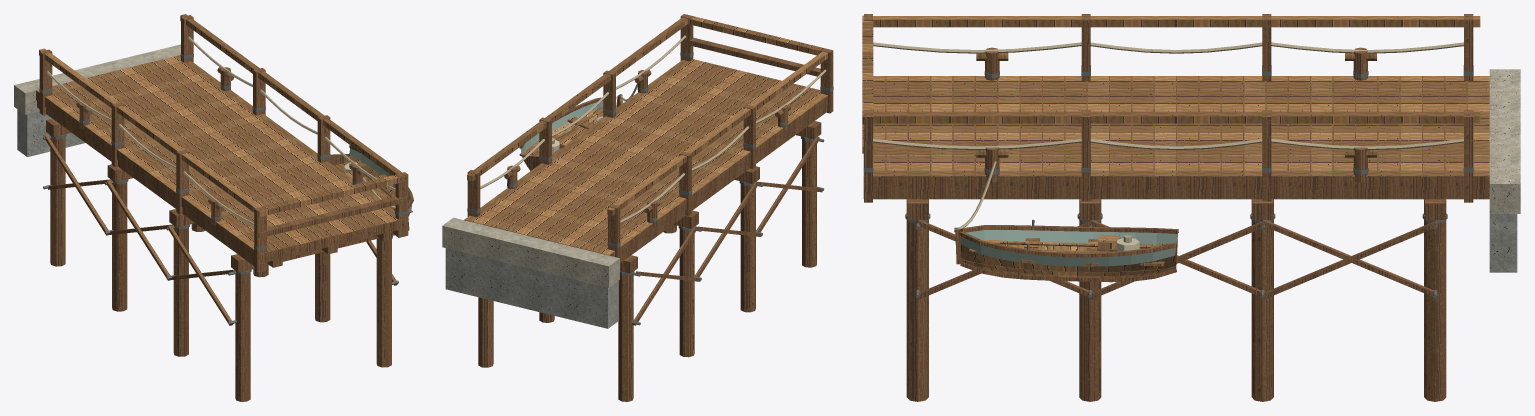
The model's file is holm_arrival_dock_oldschool_v1.glb.
3 renders of one model, left to right at view 1: azimuth 30°, elevation 25°; view 2: azimuth 150°, elevation 25°; view 3: azimuth 270°, elevation 25°, orthographic. The views are drawn at different scales.
Parts seen in each view (by area): view 1: DockDeck, DockRails, DockPiles, DockStructure, DockLanding, DockRopes, DockBoatHull, DockIron, DockBollards; view 2: DockDeck, DockLanding, DockRails, DockPiles, DockStructure, DockBoatHull, DockRopes, DockBollards, DockIron, DockBoatFittings; view 3: DockDeck, DockRails, DockPiles, DockStructure, DockBoatHull, DockLanding, DockRopes, DockBollards, DockBoatFittings, DockIron.
Part boxes in pixels (left/top/right/bottom): DockDeck: left=36, top=55, right=406, bottom=263; DockRails: left=39, top=14, right=408, bottom=272; DockPiles: left=50, top=125, right=391, bottom=401; DockStructure: left=37, top=101, right=405, bottom=325; DockLanding: left=14, top=44, right=180, bottom=156; DockRopes: left=46, top=36, right=395, bottom=225; DockBoatHull: left=330, top=145, right=413, bottom=230; DockIron: left=39, top=54, right=408, bottom=324; DockBollards: left=76, top=67, right=365, bottom=225; DockDeck: left=464, top=59, right=827, bottom=256; DockLanding: left=442, top=217, right=619, bottom=328; DockRails: left=467, top=14, right=833, bottom=266; DockPiles: left=478, top=127, right=816, bottom=401; DockStructure: left=620, top=106, right=826, bottom=325; DockBoatHull: left=519, top=95, right=623, bottom=171; DockRopes: left=480, top=35, right=826, bottom=223; DockBollards: left=504, top=70, right=791, bottom=227; DockIron: left=467, top=52, right=833, bottom=325; DockBoatFittings: left=531, top=83, right=637, bottom=154; DockDeck: left=863, top=76, right=1489, bottom=189; DockRails: left=862, top=14, right=1480, bottom=202; DockPiles: left=906, top=199, right=1446, bottom=401; DockStructure: left=863, top=189, right=1489, bottom=299; DockBoatHull: left=955, top=225, right=1178, bottom=282; DockLanding: left=1489, top=69, right=1520, bottom=272; DockRopes: left=873, top=42, right=1463, bottom=150; DockBollards: left=976, top=47, right=1376, bottom=182; DockBoatFittings: left=954, top=161, right=1159, bottom=252; DockIron: left=863, top=65, right=1473, bottom=298.
Size of the model in its own units: 5.16 by 4.5 by 9.47.
Materials: 9 (5 with a texture image).
